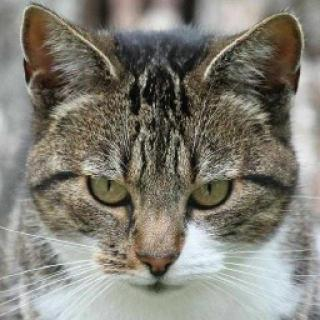cat: (21, 3, 305, 291)
nose: (128, 210, 190, 283)
